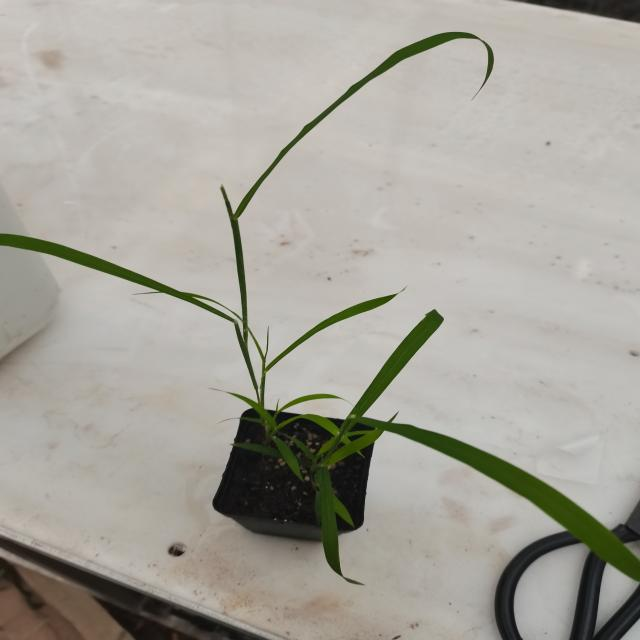crabgrass: (190, 288, 615, 557)
